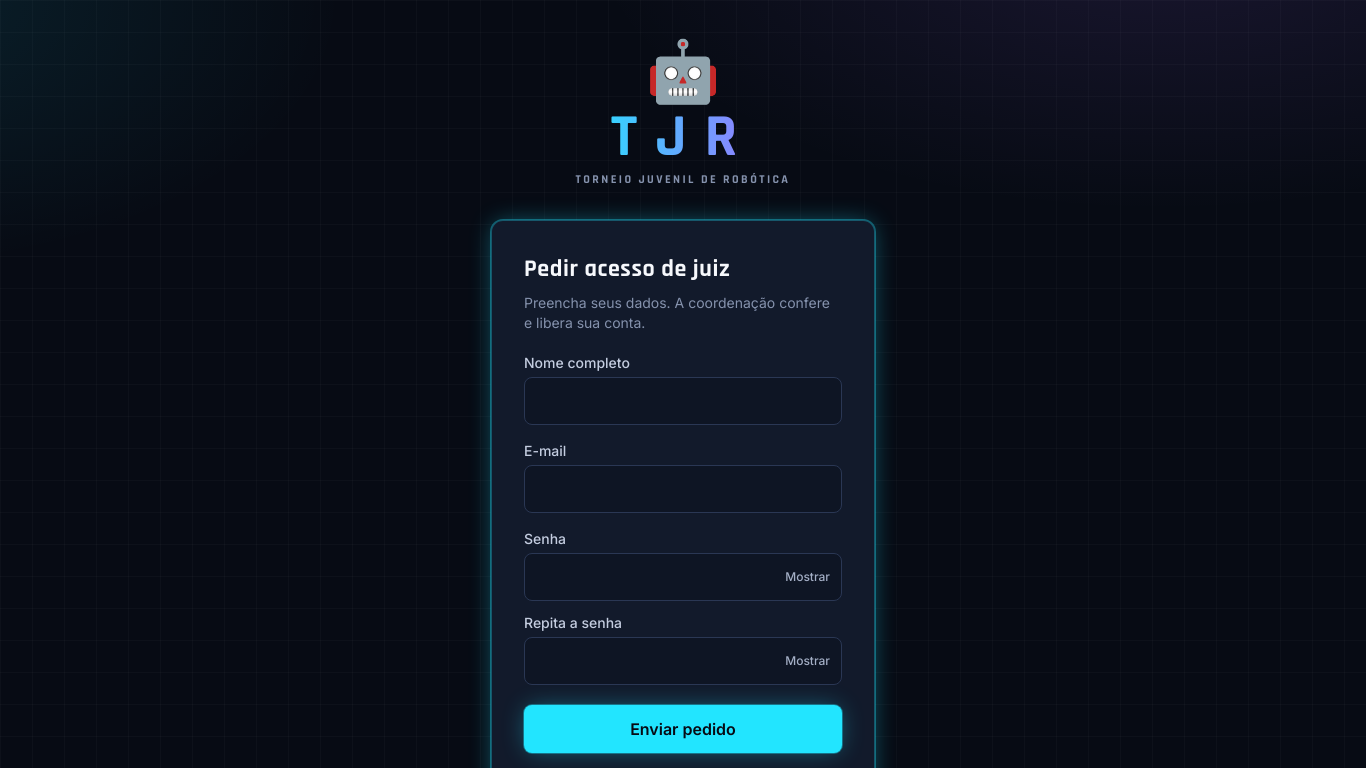
Scenario: PedirAcessoPage › explica quando o e-mail ja tem conta
The width and height of the screenshot is (1366, 768).
In the field labelled "Nome completo": (683, 401) [524,377,842,425], type "Juiz Novo"
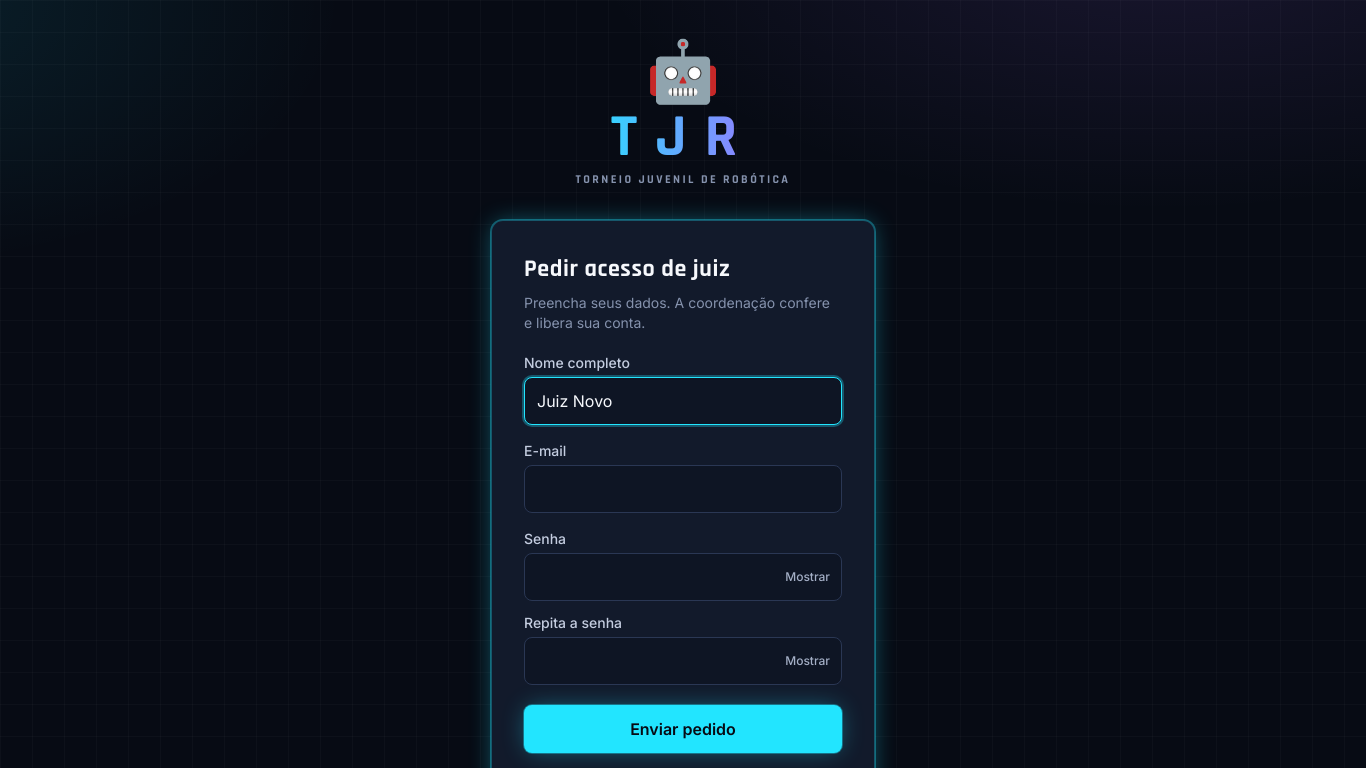
In the field labelled "E-mail": (683, 489) [524,465,842,513], type "juiz.novo@tjr.app"
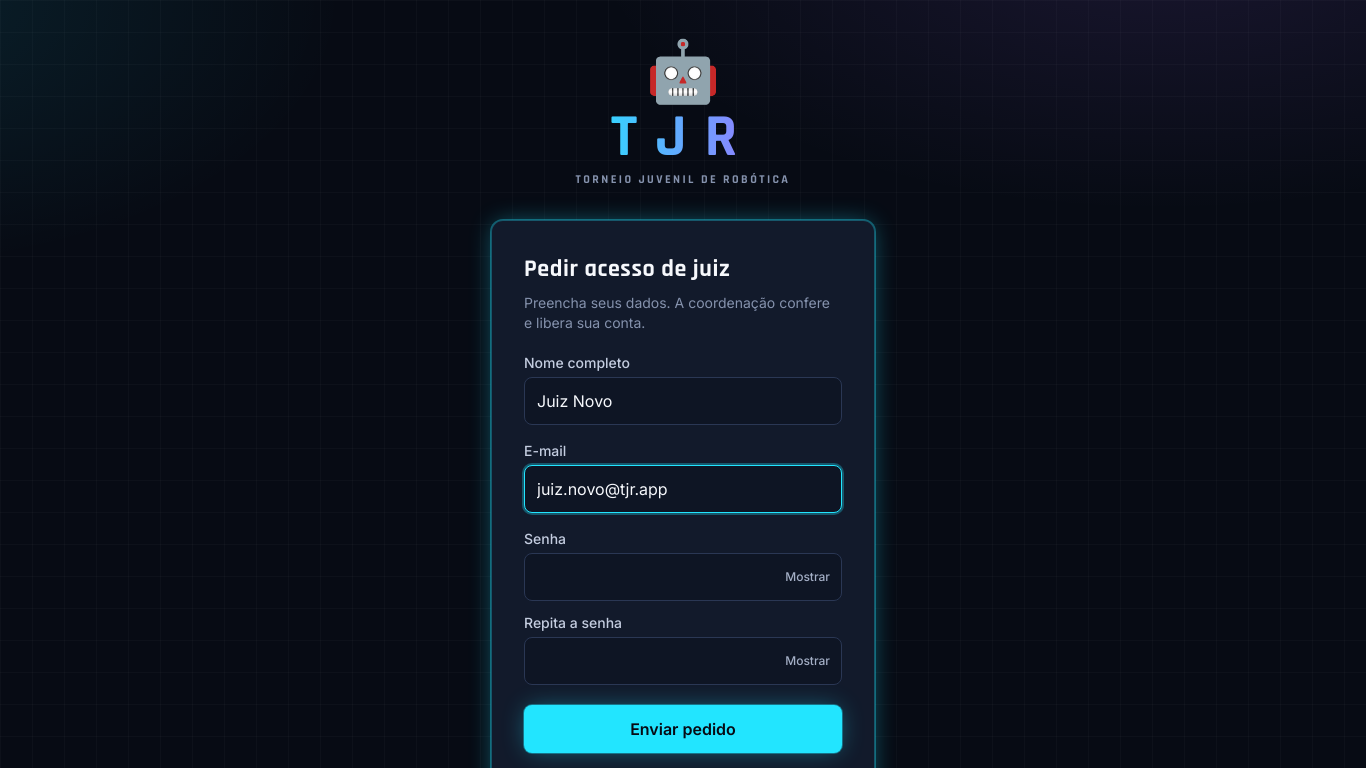
In the password field labelled "Senha": (683, 577) [524,553,842,601], type "segredo1"
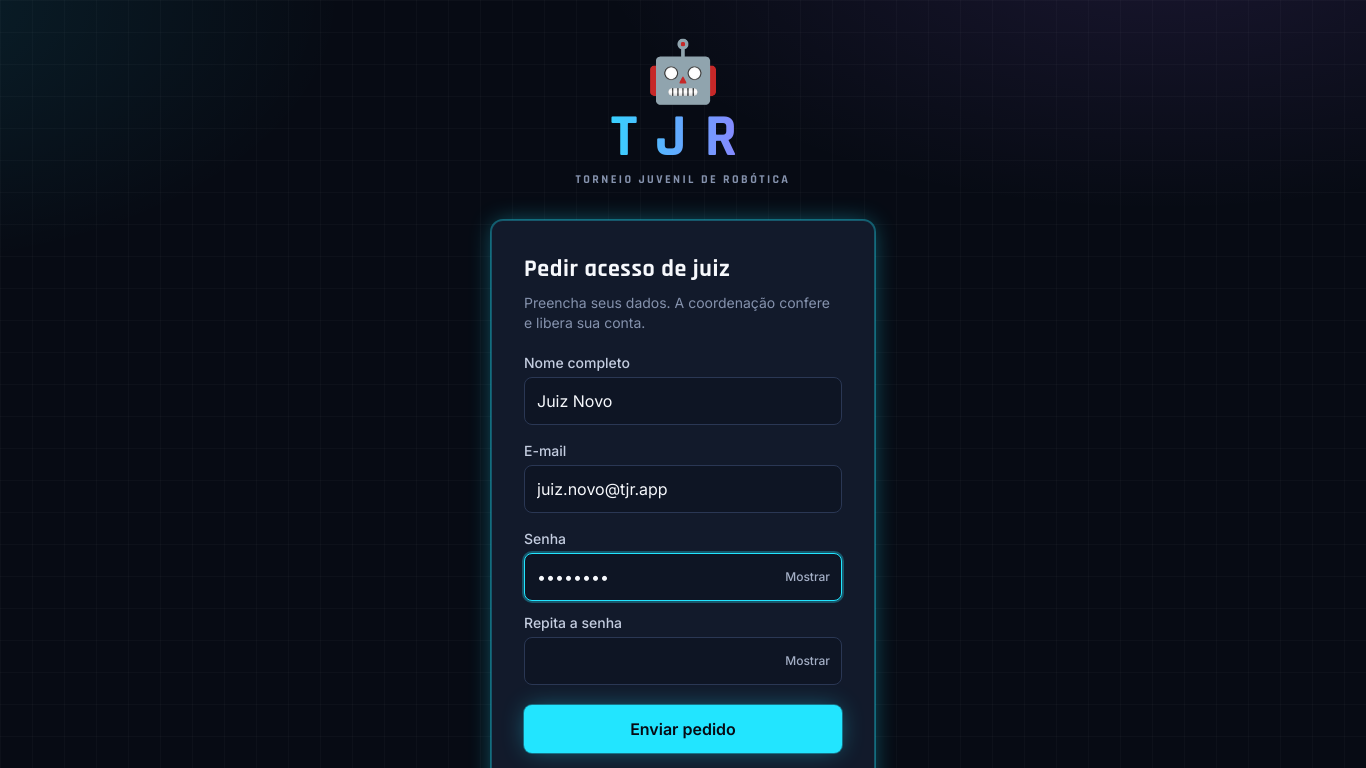
In the password field labelled "Repita a senha": (683, 661) [524,637,842,685], type "segredo1"
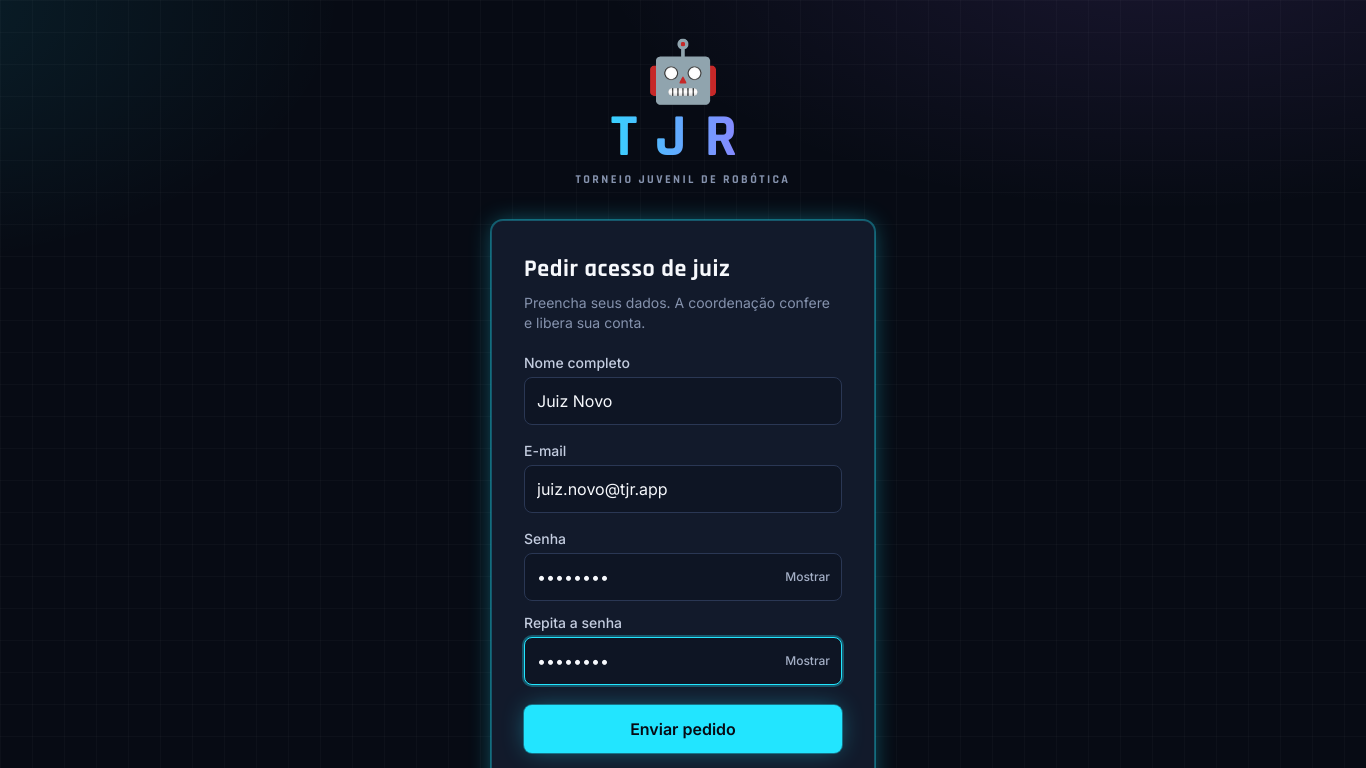
Click the button "Enviar pedido": (683, 729) [524,705,842,753]
(page scrolled)
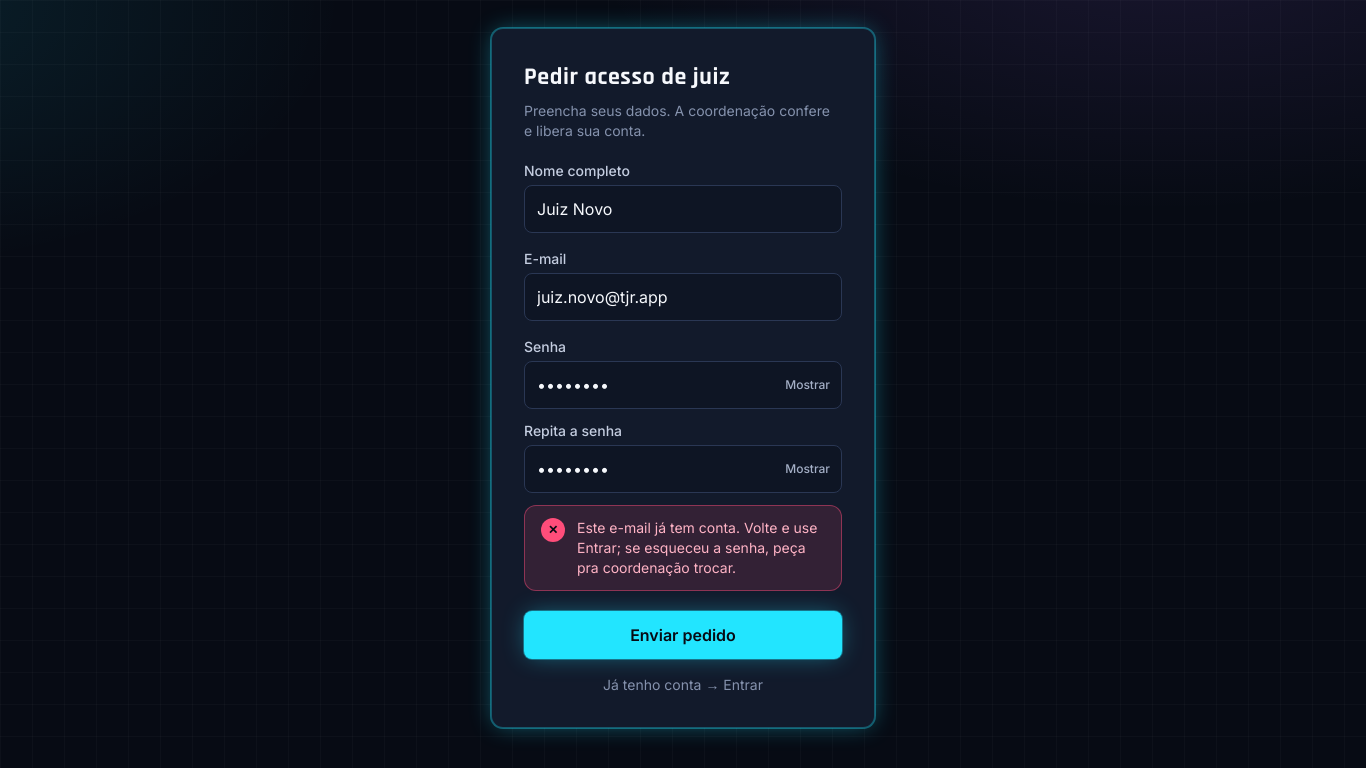
Result: the text "Este e-mail já tem conta" is shown at [577,519,817,576]
